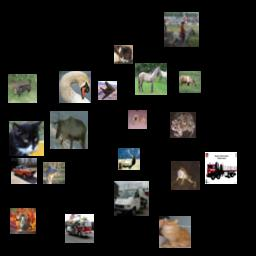airplane: (98, 81, 117, 100)
automobile: (11, 158, 37, 184)
bird: (59, 71, 91, 103), (43, 162, 65, 184)
cat: (9, 121, 44, 156), (159, 216, 191, 248), (10, 208, 36, 234), (114, 45, 133, 64)
deer: (50, 111, 88, 149), (179, 71, 201, 93), (118, 148, 140, 170)
dog: (8, 74, 37, 103), (128, 110, 147, 129)
frog: (171, 161, 200, 190), (170, 112, 196, 138)
truck: (114, 181, 149, 216), (205, 152, 237, 184), (65, 214, 94, 243)
